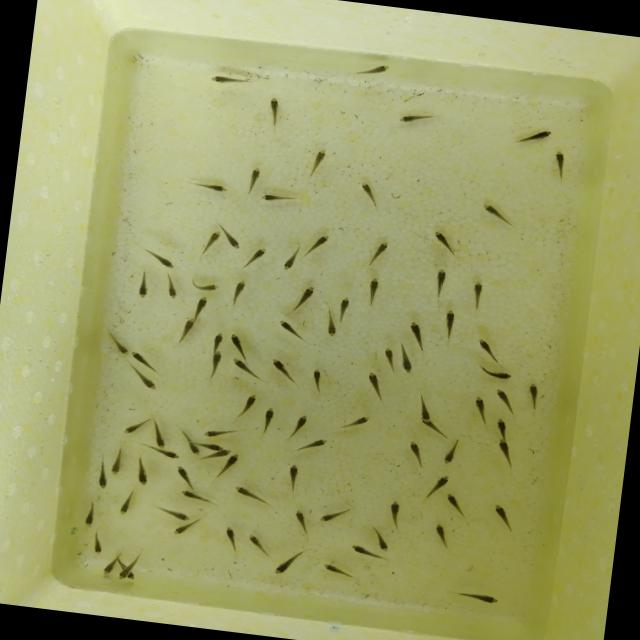fingerling: (284, 282, 316, 318), (124, 448, 154, 486), (269, 545, 303, 578), (488, 384, 520, 416), (429, 228, 462, 258), (405, 318, 432, 354), (514, 124, 552, 149), (478, 202, 516, 227), (275, 318, 309, 344), (146, 416, 170, 451), (266, 357, 298, 383), (421, 471, 448, 501), (362, 370, 388, 401), (395, 342, 418, 377), (356, 178, 381, 210), (230, 484, 266, 506), (262, 95, 286, 128), (428, 266, 450, 302), (479, 364, 515, 386), (403, 440, 429, 470), (175, 428, 202, 456), (306, 229, 332, 258), (491, 504, 520, 530), (472, 337, 502, 362), (454, 590, 504, 605), (123, 348, 156, 370), (359, 60, 392, 82), (384, 494, 404, 530), (256, 404, 280, 434), (305, 146, 327, 178), (550, 148, 572, 180), (245, 536, 272, 562), (245, 240, 270, 268), (365, 238, 389, 267), (320, 561, 356, 580), (439, 308, 458, 344), (298, 436, 332, 456), (466, 278, 486, 312), (217, 450, 243, 476), (412, 398, 438, 424), (442, 492, 467, 519), (318, 507, 350, 528), (468, 394, 489, 426), (370, 526, 394, 554), (361, 276, 382, 308), (134, 370, 162, 394), (207, 72, 249, 88), (524, 380, 545, 412), (348, 544, 385, 562), (227, 276, 247, 309), (440, 438, 462, 468), (144, 250, 180, 268), (226, 355, 258, 375), (172, 464, 198, 488), (224, 328, 248, 354), (494, 436, 516, 464), (134, 272, 152, 306), (106, 444, 125, 476), (378, 344, 398, 374), (170, 518, 200, 538), (280, 244, 300, 274), (290, 409, 312, 436), (122, 416, 149, 438), (178, 489, 212, 506), (396, 109, 430, 126), (238, 392, 260, 418), (200, 228, 222, 254), (256, 190, 294, 205), (194, 439, 232, 454), (332, 294, 352, 322), (432, 526, 452, 554), (245, 163, 263, 194), (108, 336, 133, 358), (176, 316, 196, 343), (291, 506, 310, 534), (342, 413, 370, 432), (222, 526, 242, 552), (306, 366, 326, 392), (190, 180, 229, 193), (118, 489, 136, 517), (93, 461, 111, 489), (162, 272, 180, 299), (191, 294, 209, 321), (321, 312, 339, 339), (286, 464, 302, 494), (202, 427, 234, 442), (193, 278, 219, 296), (152, 446, 182, 461), (492, 418, 512, 440), (160, 509, 193, 522), (81, 504, 98, 529), (206, 446, 234, 461), (223, 226, 240, 250), (90, 532, 106, 556), (421, 418, 442, 434), (209, 331, 226, 350), (116, 562, 132, 582), (102, 554, 117, 574), (210, 350, 222, 374)
